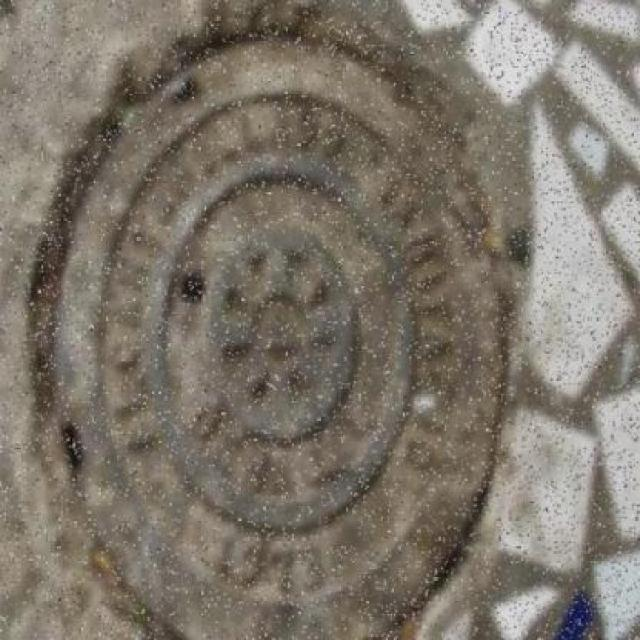Manhole: (53, 32, 516, 638)
